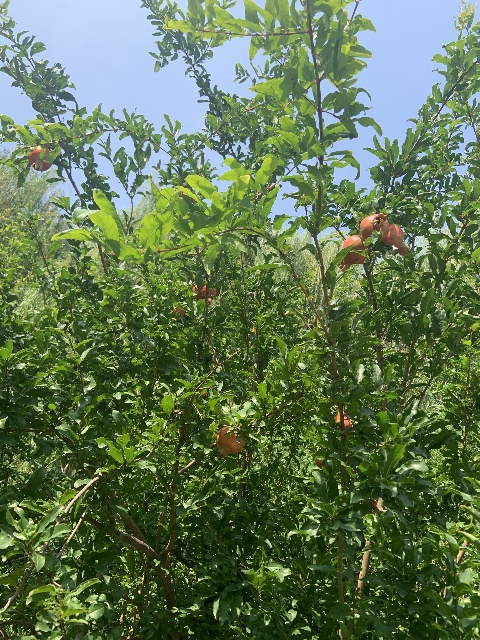ripe: (337, 234, 370, 271), (215, 426, 245, 459), (381, 223, 410, 255), (359, 212, 389, 241), (27, 145, 53, 170), (192, 284, 216, 303), (333, 412, 350, 437), (171, 306, 184, 321)
